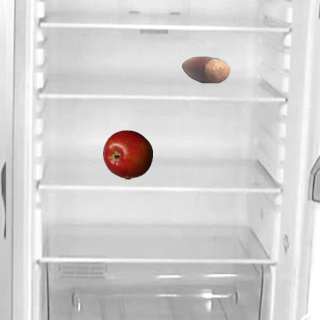Apple Braeburn: (102, 129, 152, 179)
Hazelnut: (180, 44, 230, 94)
